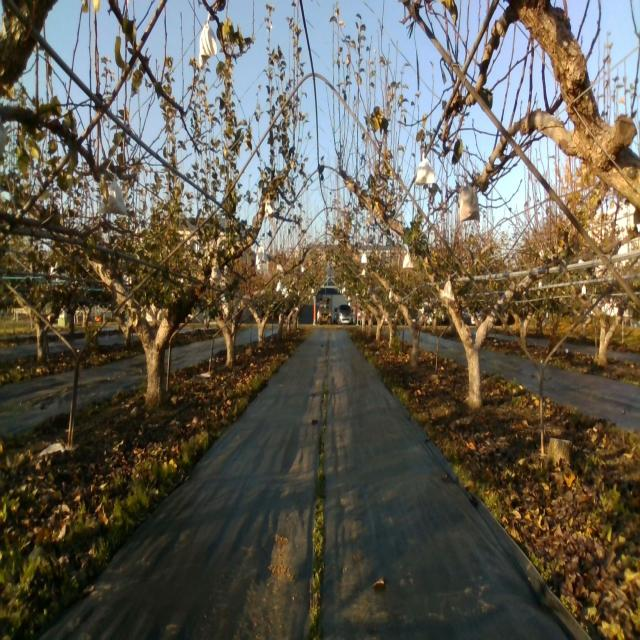pearbags: (96, 174, 127, 217), (199, 11, 218, 69), (459, 179, 480, 222), (416, 155, 437, 186), (210, 262, 225, 288), (256, 240, 270, 266), (442, 274, 456, 300), (403, 252, 414, 269)
